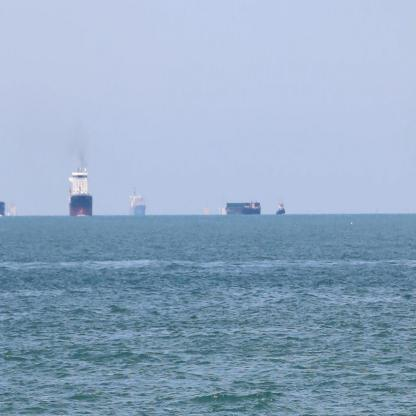Container Ship: (68, 156, 94, 219), (223, 197, 264, 217), (127, 184, 148, 219), (275, 192, 288, 216)
